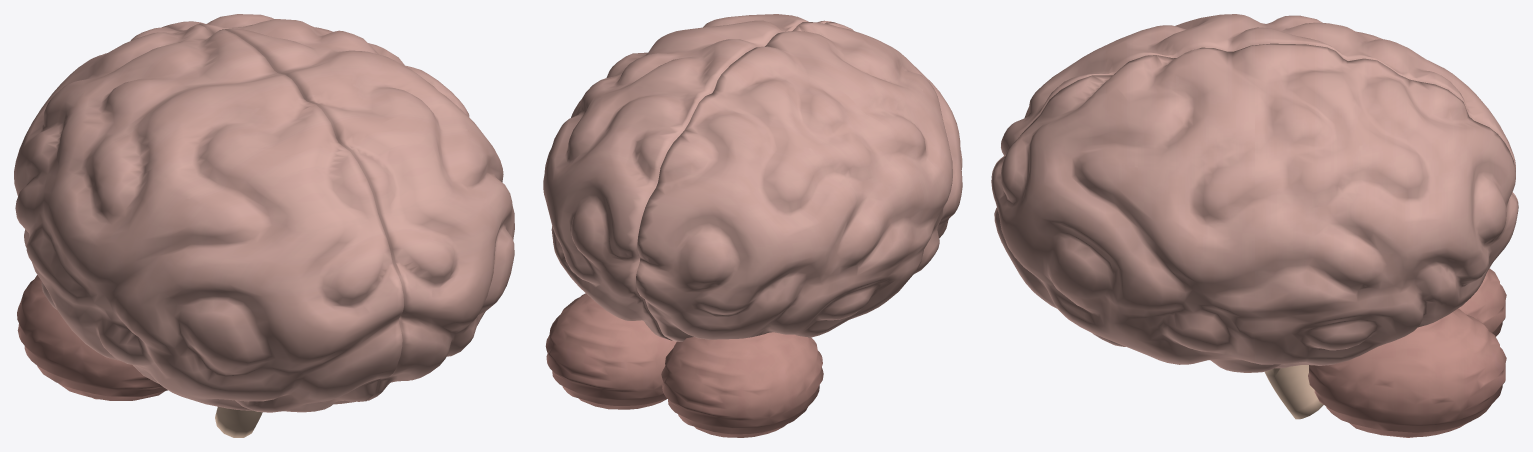
The model's file is brain.glb.
The picture shows the model from 3 angles, left to right: view 1: azimuth 30°, elevation 25°; view 2: azimuth 150°, elevation 25°; view 3: azimuth 270°, elevation 25°; orthographic projection. The views are drawn at different scales.
Parts seen in each view (by area): view 1: Left cerebral hemisphere with sculpted gyri, Left cerebellar hemisphere with folia, Pons and medulla brainstem; view 2: Left cerebral hemisphere with sculpted gyri, Left cerebellar hemisphere with folia; view 3: Left cerebral hemisphere with sculpted gyri, Left cerebellar hemisphere with folia, Pons and medulla brainstem.
Part boxes in pixels (x1=…): Left cerebral hemisphere with sculpted gyri: x1=14, y1=14, x2=514, y2=412; Left cerebellar hemisphere with folia: x1=17, y1=275, x2=167, y2=400; Pons and medulla brainstem: x1=215, y1=406, x2=262, y2=437; Left cerebral hemisphere with sculpted gyri: x1=543, y1=14, x2=962, y2=341; Left cerebellar hemisphere with folia: x1=545, y1=293, x2=823, y2=437; Left cerebral hemisphere with sculpted gyri: x1=991, y1=14, x2=1518, y2=372; Left cerebellar hemisphere with folia: x1=1308, y1=268, x2=1506, y2=437; Pons and medulla brainstem: x1=1264, y1=365, x2=1323, y2=419.
Size of the model in its own units: 0.1367 by 0.1276 by 0.1627.
Materials: 3 (3 with a texture image).
